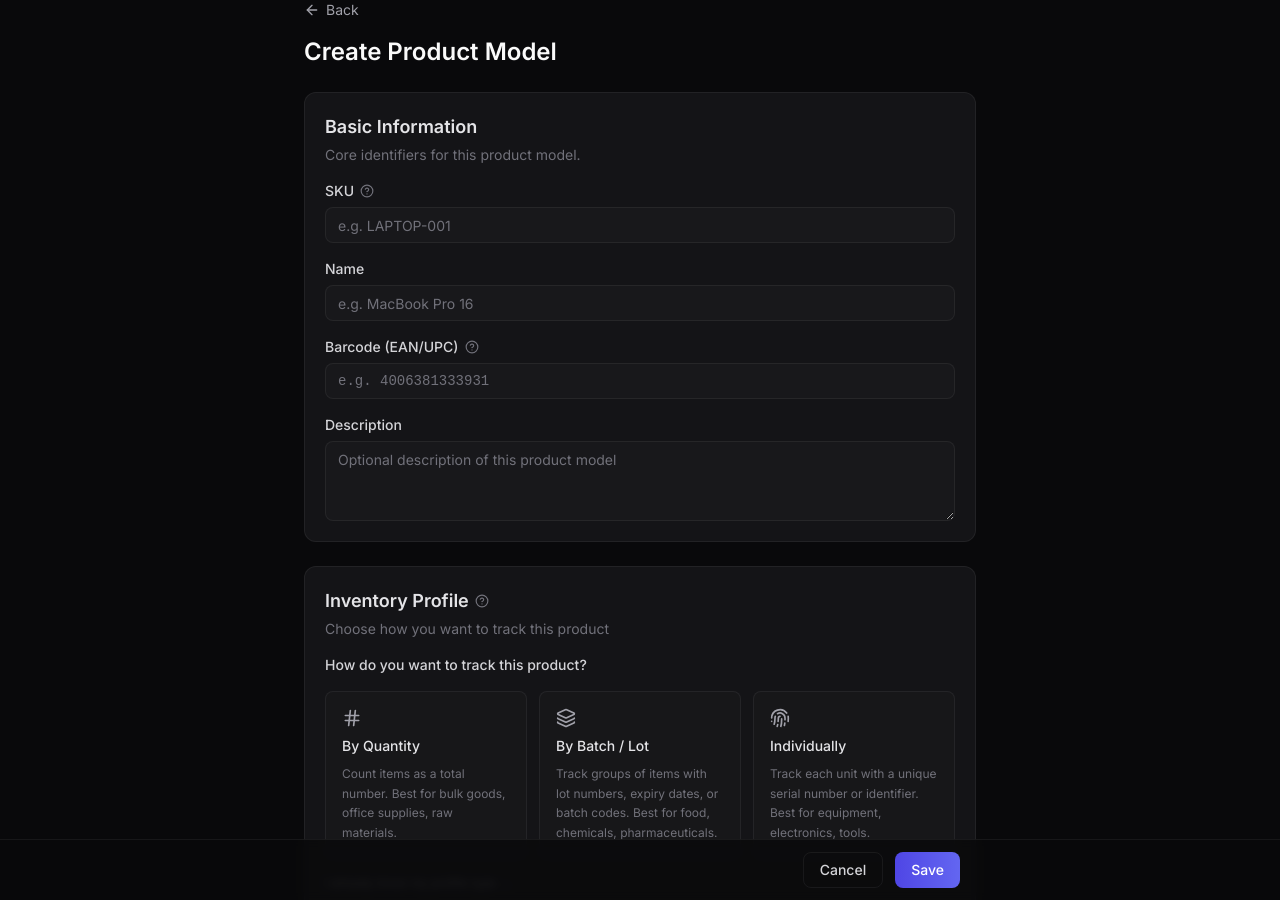
ProductModelCreate – Tracking Preset section › renders Initial Batch section when BATCH_TRACKED profile is picked (no Expiry Date)
Click the text "By Batch / Lot" at (602, 746), box top-left (556, 736), bottom-right (649, 756)
(page scrolled)
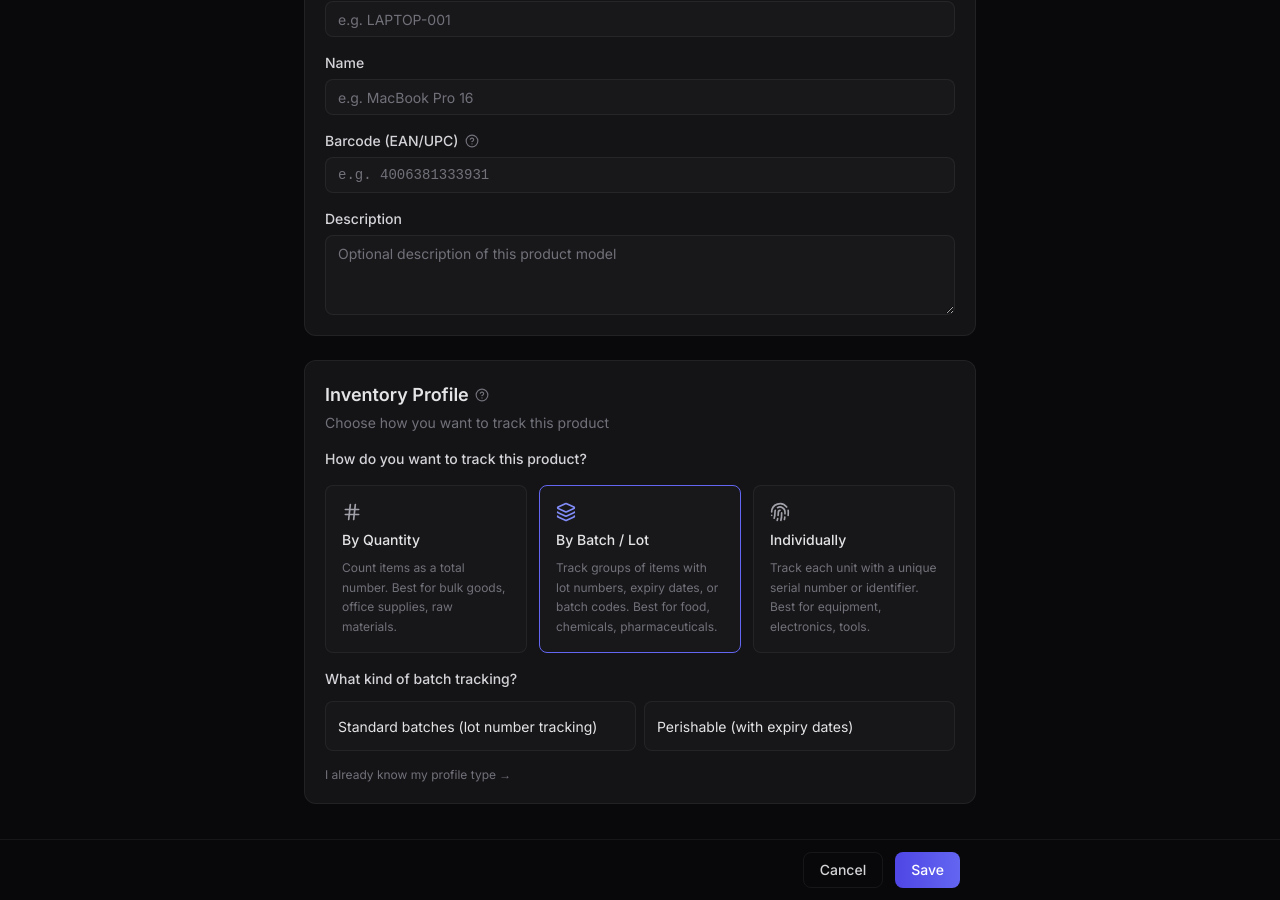
Click the button "Standard batches (lot number tracking)" at (480, 726), box top-left (325, 701), bottom-right (636, 751)
(page scrolled)
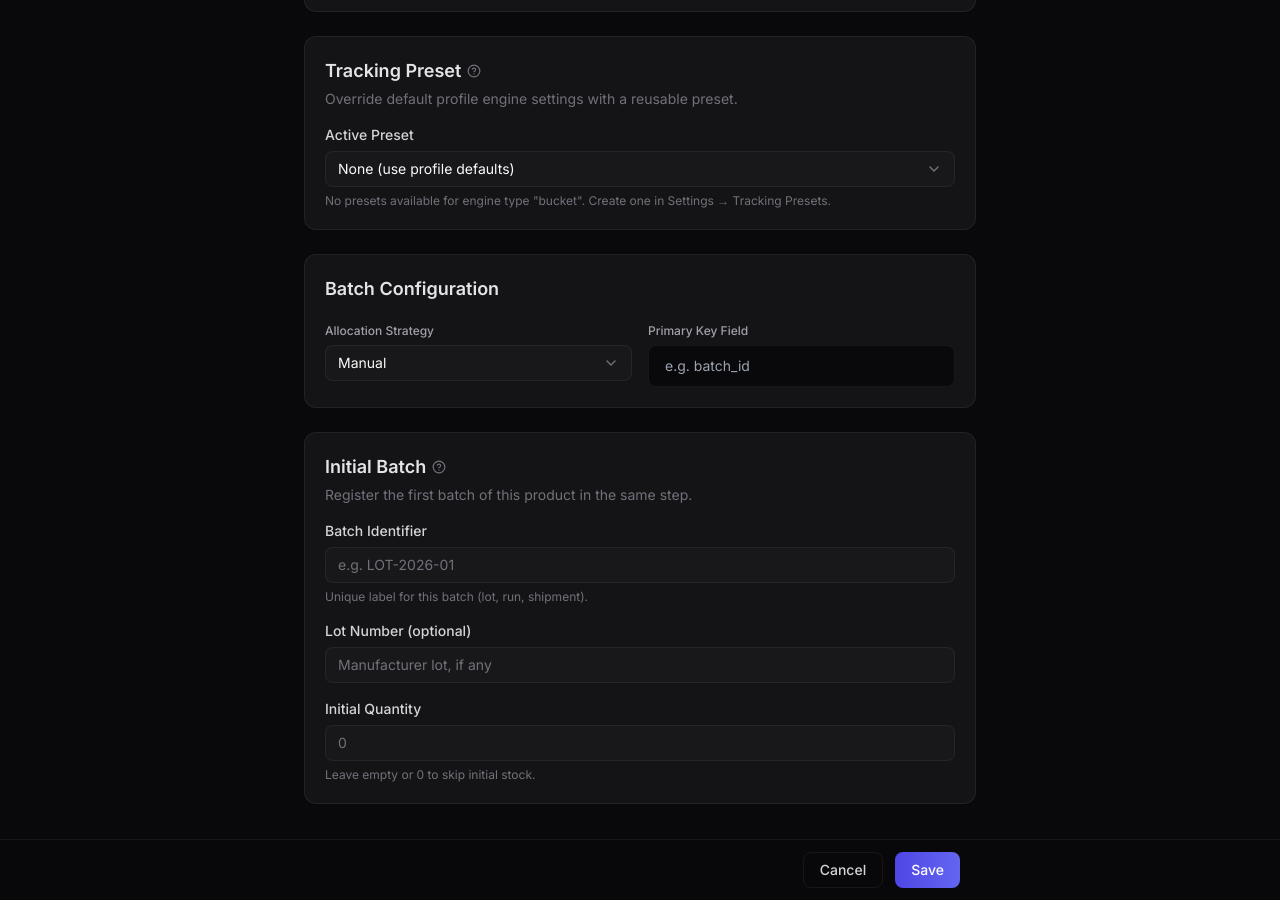
Expected: the text "Expiry Date" is not shown
Now the heading "Initial Batch" is shown, box top-left (325, 452), bottom-right (446, 480)
Now the text "Batch Identifier" is shown, box top-left (325, 522), bottom-right (427, 538)
